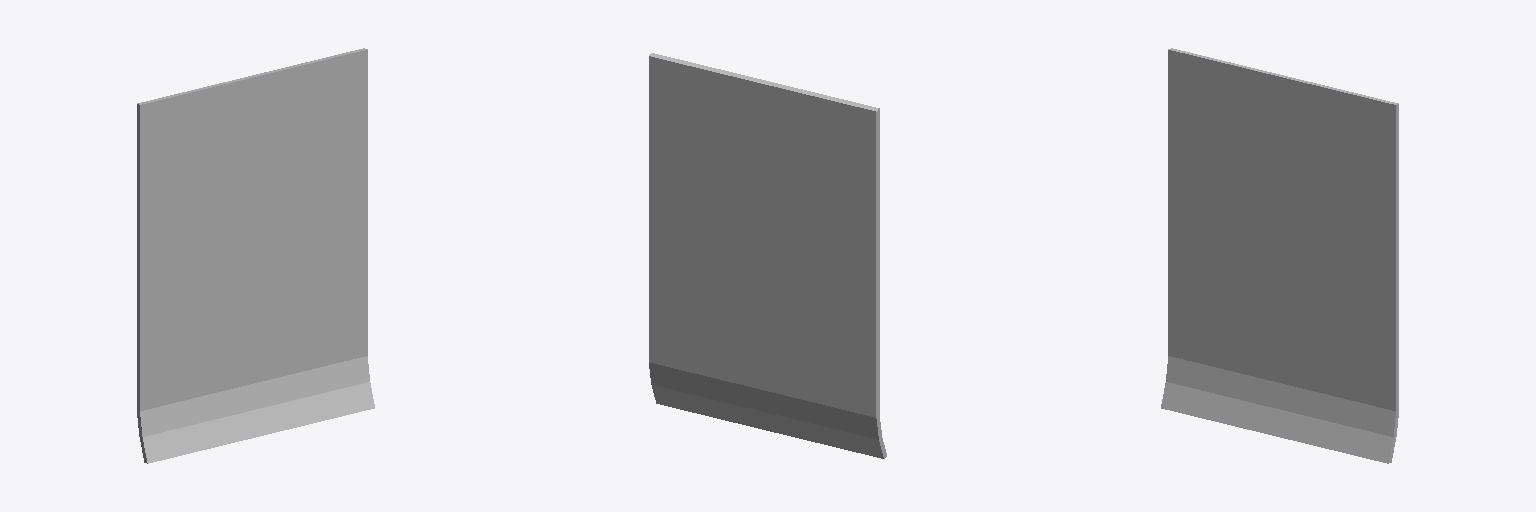
File: Poster1.obj
The picture shows the model from 3 angles: view 1: azimuth 30°, elevation 25°; view 2: azimuth 150°, elevation 25°; view 3: azimuth 330°, elevation 25°; orthographic projection.
Visible parts, largest first — view 1: Plane; view 2: Plane; view 3: Plane.
Part boxes in pixels (bbox=[...]): Plane: bbox=[137, 48, 374, 463]; Plane: bbox=[649, 53, 886, 458]; Plane: bbox=[1161, 48, 1398, 463].
Bounding box in the file's own units: 2 × 2.97 × 0.1652.